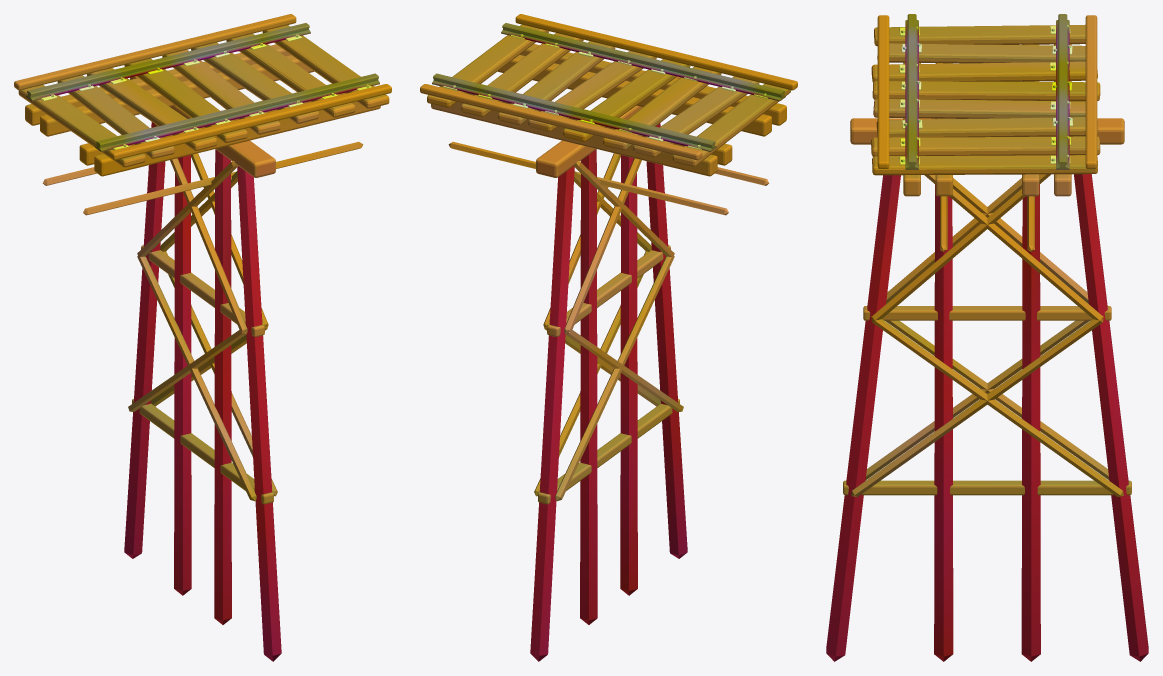
Rendered from Track_Bridge_Trestle_6m.fbx.
3 renders of one model, left to right at view 1: azimuth 30°, elevation 25°; view 2: azimuth 150°, elevation 25°; view 3: azimuth 270°, elevation 25°, orthographic. The views are drawn at different scales.
Visible parts, largest first — view 1: Track_Bridge_Trestle_6m; view 2: Track_Bridge_Trestle_6m; view 3: Track_Bridge_Trestle_6m.
Part boxes in pixels (x1,y1,x2,y2): Track_Bridge_Trestle_6m: (14, 14, 391, 661); Track_Bridge_Trestle_6m: (420, 14, 797, 661); Track_Bridge_Trestle_6m: (826, 14, 1148, 661).
Bounding box in the file's own units: 6.04 × 10.85 × 5.53.
